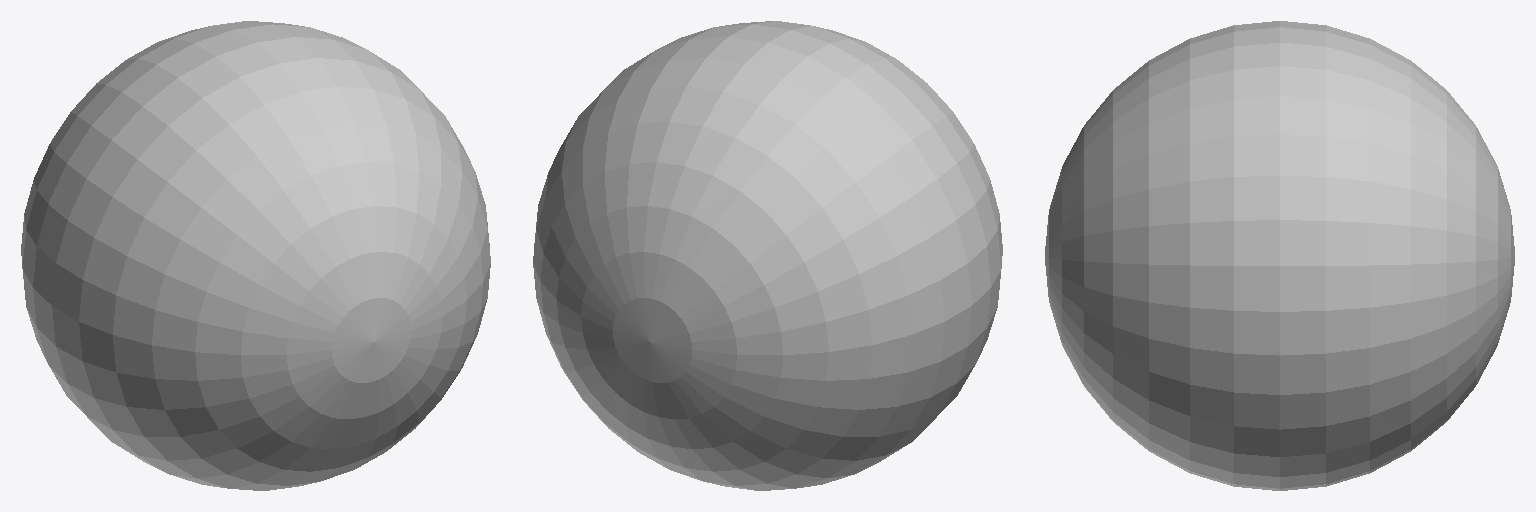
File: tinker 1.obj
3 views of the same model, side by side, from view 1: azimuth 30°, elevation 25°; view 2: azimuth 150°, elevation 25°; view 3: azimuth 270°, elevation 25° (orthographic).
Parts seen in each view (by area): view 1: obj_0; view 2: obj_0; view 3: obj_0.
Part boxes in pixels (left/top/right/bottom): obj_0: left=21, top=21, right=490, bottom=490; obj_0: left=533, top=21, right=1002, bottom=490; obj_0: left=1045, top=21, right=1514, bottom=490.
Size of the model in its own units: 20 by 20 by 20.